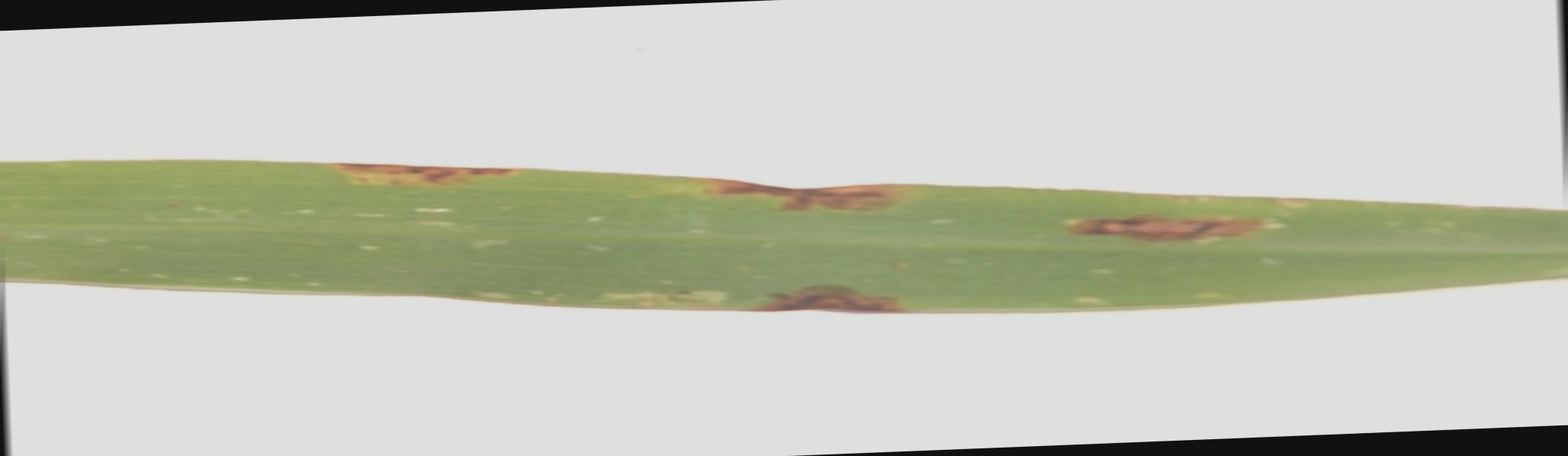Bacterial_Leaf_Blight: (670, 151, 930, 213), (293, 136, 529, 198), (1036, 193, 1271, 251), (745, 269, 893, 328)
